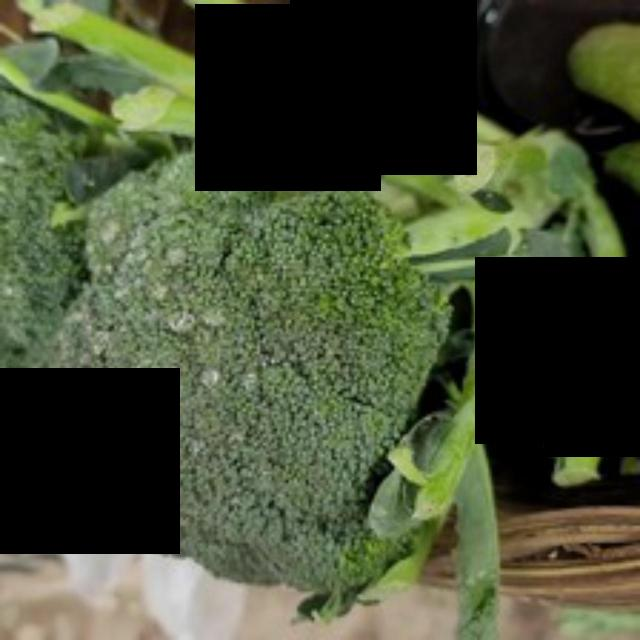broccoli: (36, 123, 467, 600)
